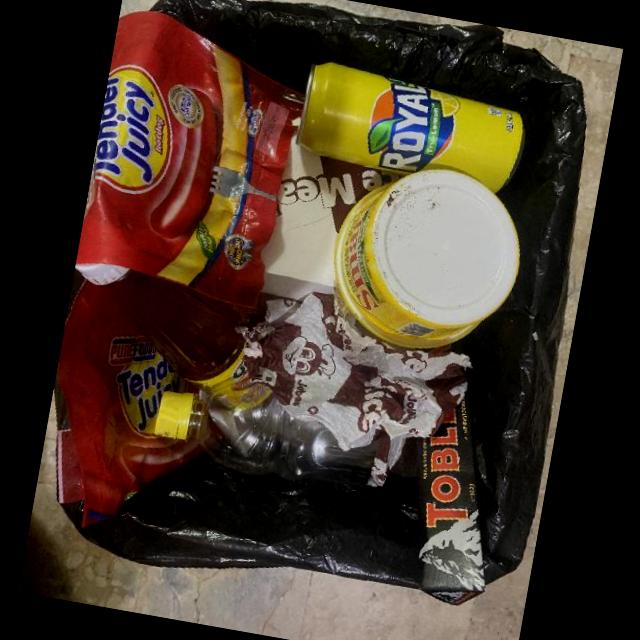bao_bi_thuc_pham: (78, 9, 306, 305), (58, 278, 205, 527), (232, 293, 469, 446)
carton: (419, 391, 483, 593)
chai_nhua: (333, 169, 520, 349)
chai_thuy_tinh: (75, 242, 281, 422)
nhom: (297, 64, 526, 192)
